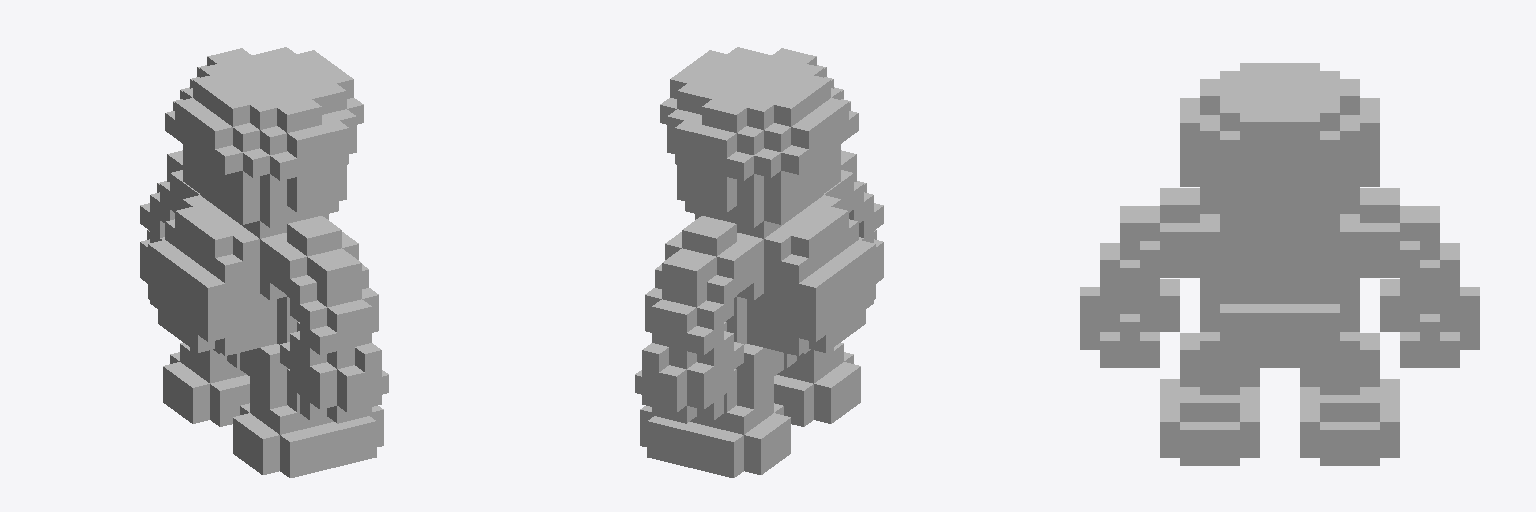
The model's file is Player.obj.
3 views of the same model, side by side, from view 1: azimuth 30°, elevation 25°; view 2: azimuth 150°, elevation 25°; view 3: azimuth 270°, elevation 25° (orthographic).
Bounding box in the file's own units: 9 × 19 × 20.